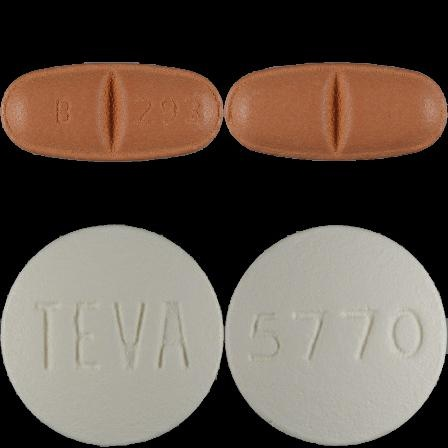49349-904: (0, 0, 224, 224)
